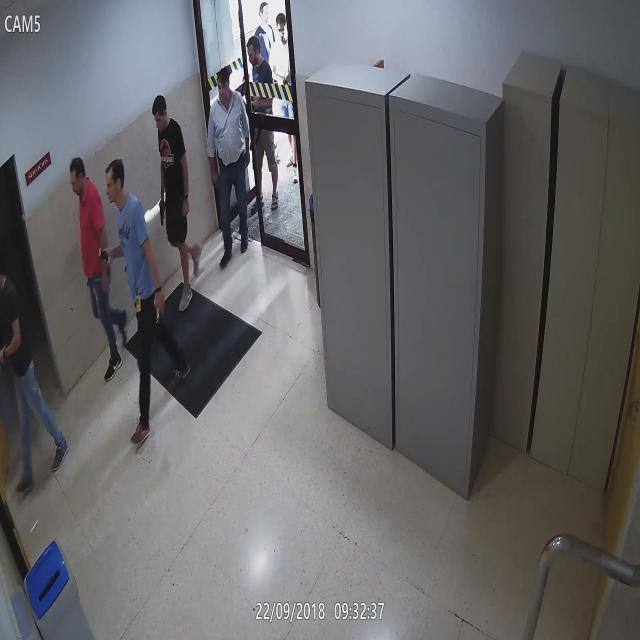Gun: (152, 290, 168, 326), (158, 192, 166, 224)
